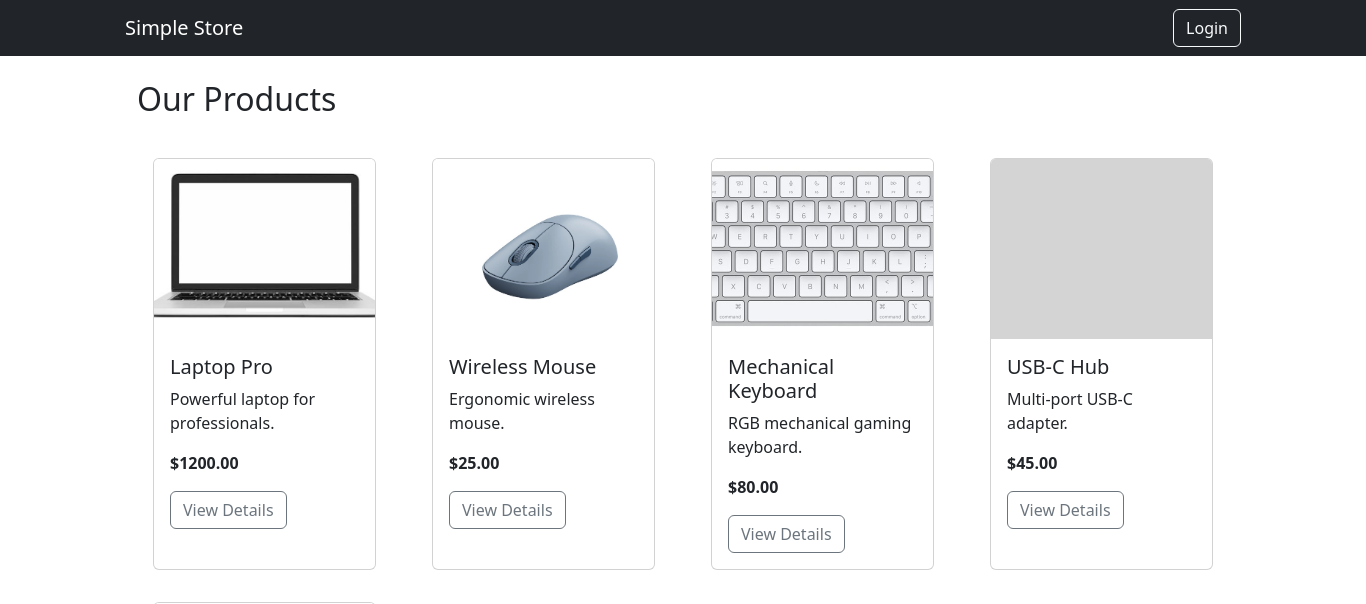
Test: Auth E2E Tests › should logout successfully
Click the button with test id ".navbar [data-testid=\"nav-login\"]". click: click(1207, 28)
box: [1173,9,1241,47]
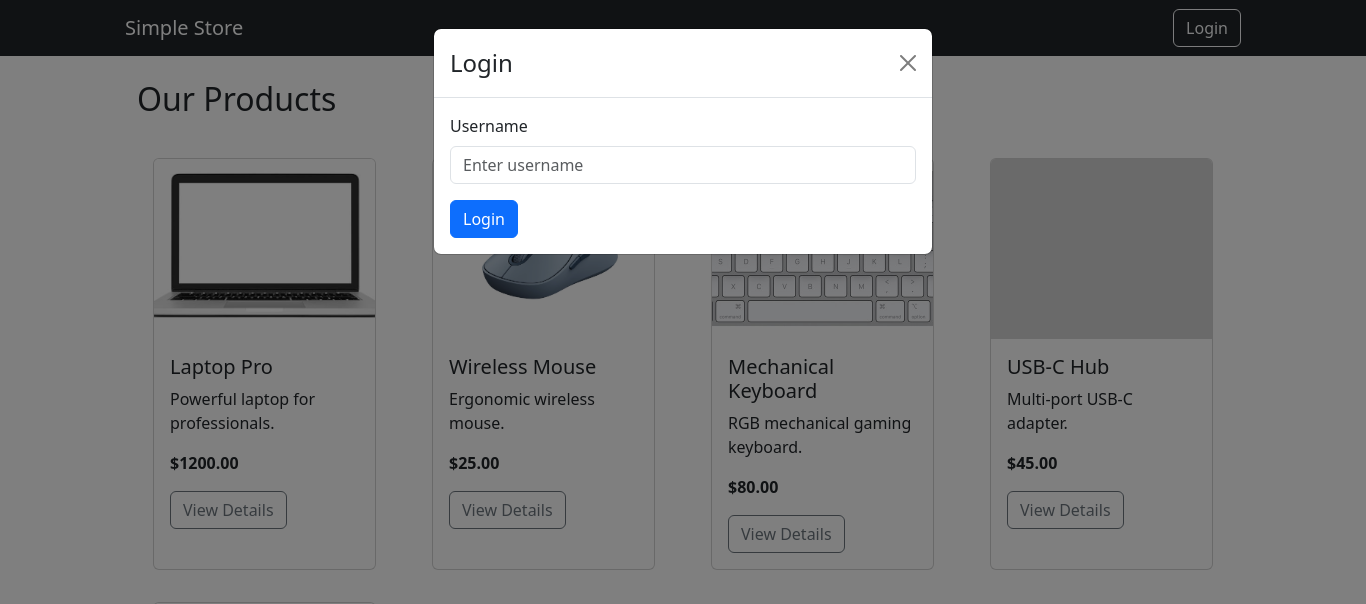
Type "TestUser" into the field with test id "login-username". click: (683, 165)
box: [450,146,916,184]
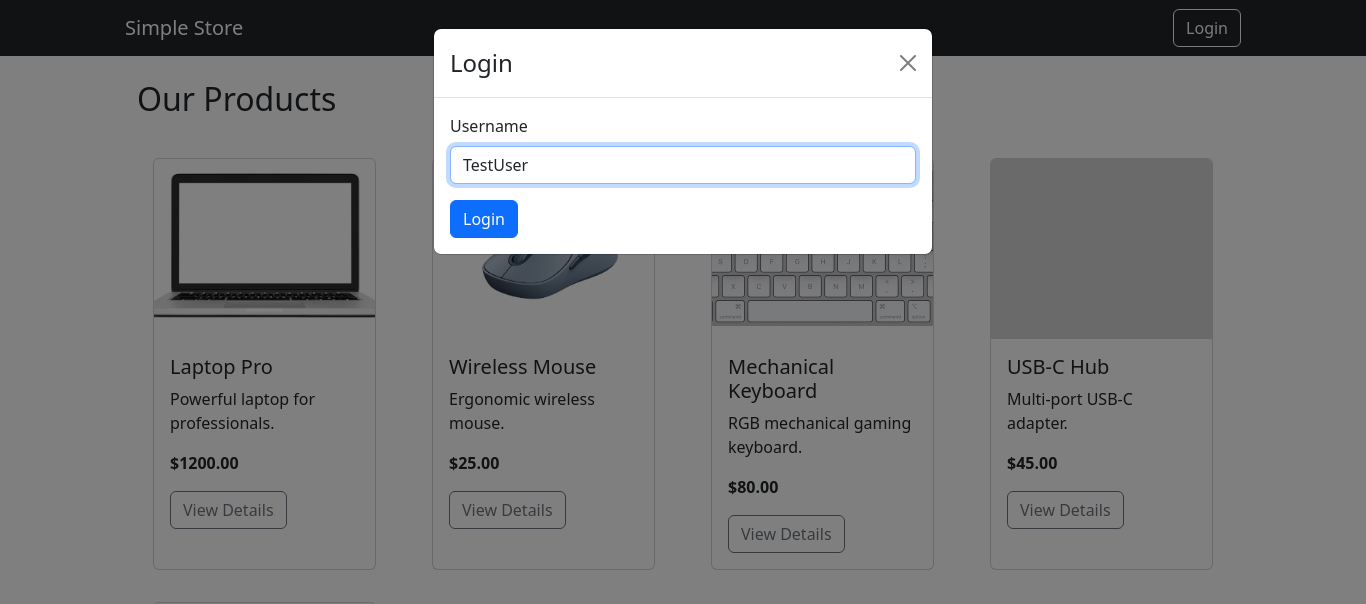
Click the button with test id "login-submit". click: click(484, 219)
box: [450,200,518,238]
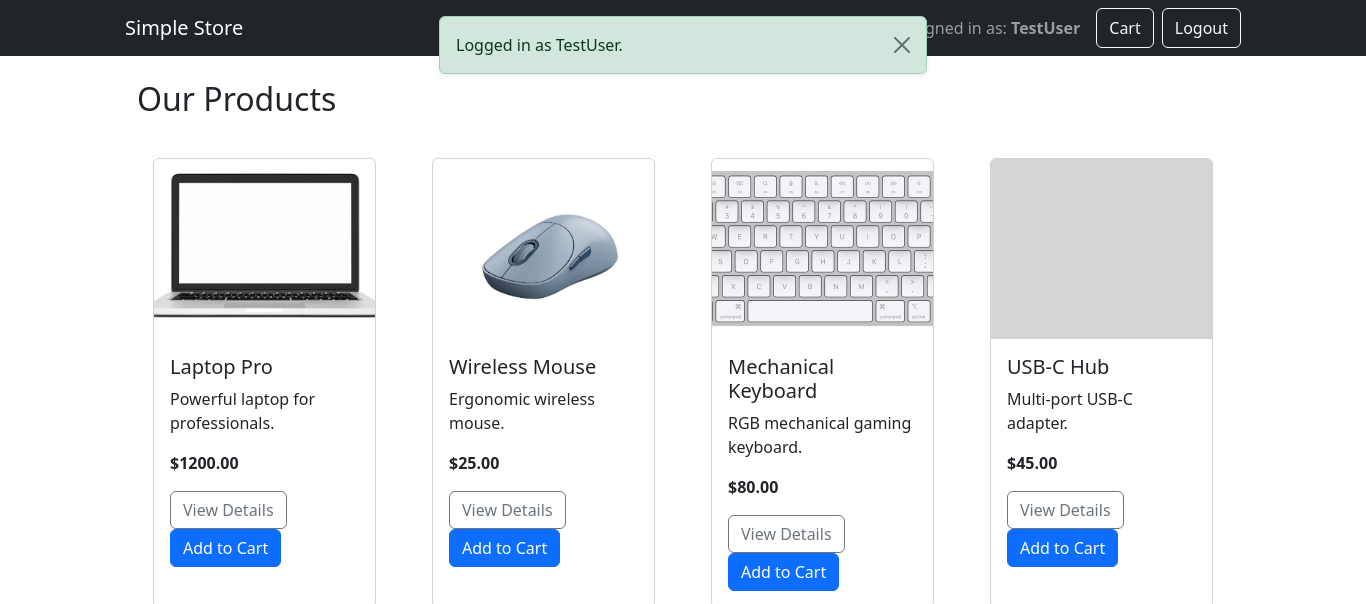
Expected: the text with test id ".navbar [data-testid=\"user-info\"]" reads "TestUser", [1011,17,1080,39]
Expected: the button with test id ".navbar [data-testid=\"nav-logout\"]" is shown
Click the button with test id ".navbar [data-testid=\"nav-logout\"]". click: click(1202, 28)
box: [1162,8,1241,48]
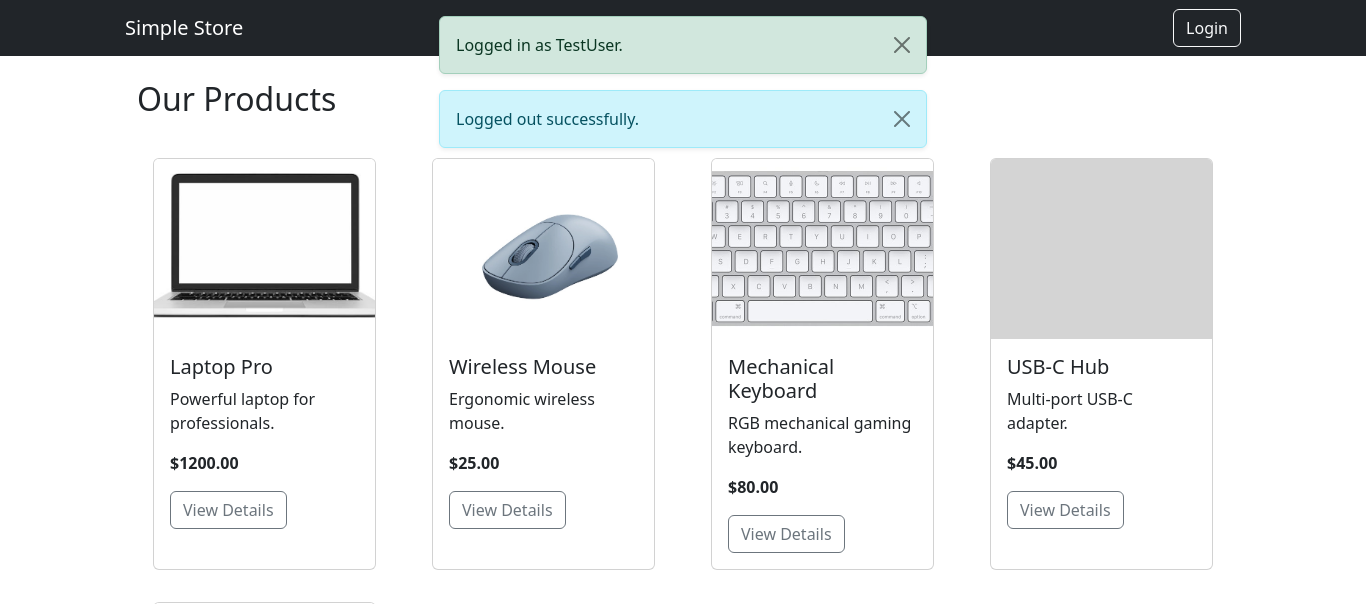
Expected: the button with test id ".navbar [data-testid=\"nav-login\"]" is shown, [1173,9,1241,47]
Expected: the text "Logged out successfully." is shown, [439,90,927,148]
